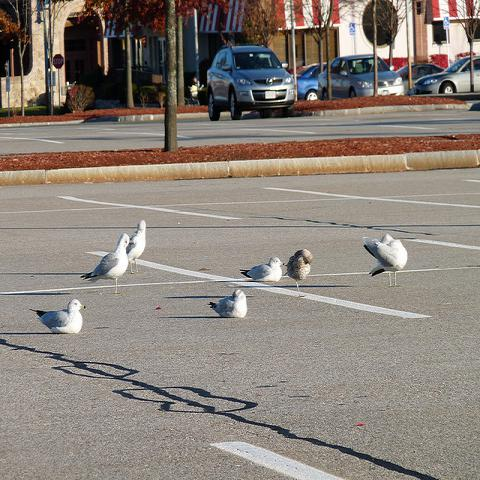car: (206, 44, 295, 122), (317, 54, 405, 101), (413, 54, 479, 95), (392, 63, 447, 95), (296, 64, 326, 100)
